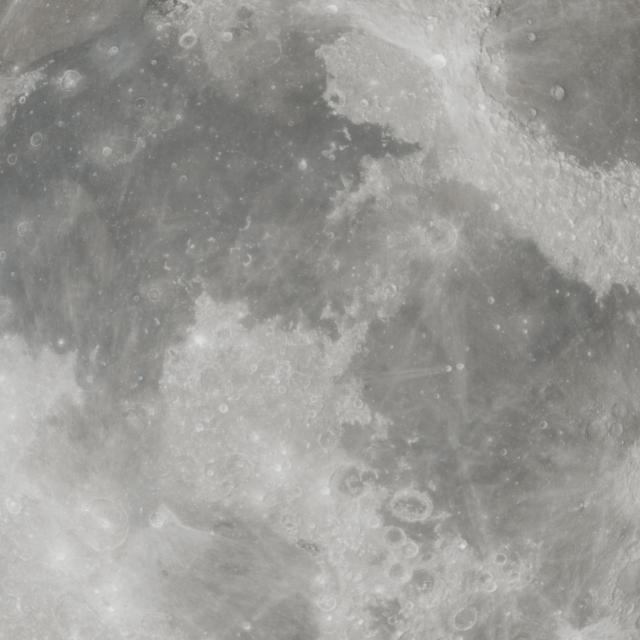crater: (257, 39, 283, 66), (383, 526, 408, 547), (61, 70, 82, 90), (398, 539, 419, 559), (324, 88, 344, 109), (611, 400, 630, 421), (477, 572, 498, 591), (387, 563, 408, 580), (317, 432, 336, 449), (434, 536, 454, 552), (5, 497, 22, 514), (16, 221, 32, 237), (281, 514, 297, 530), (30, 132, 44, 148), (204, 463, 218, 478), (434, 522, 449, 536), (147, 288, 161, 302), (134, 97, 148, 110), (494, 553, 508, 565), (6, 153, 18, 166), (107, 45, 119, 57), (220, 31, 233, 42), (387, 282, 398, 294), (528, 107, 538, 119), (331, 258, 341, 270), (102, 146, 113, 156), (360, 98, 370, 108), (178, 174, 188, 184), (407, 91, 417, 100), (18, 96, 27, 104)
rock: (542, 382, 567, 406), (527, 118, 548, 136), (168, 348, 179, 360)
